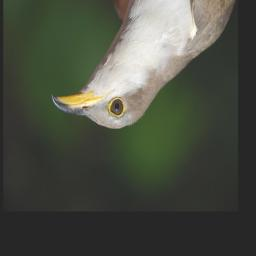Cuckoo: (52, 0, 238, 130)
